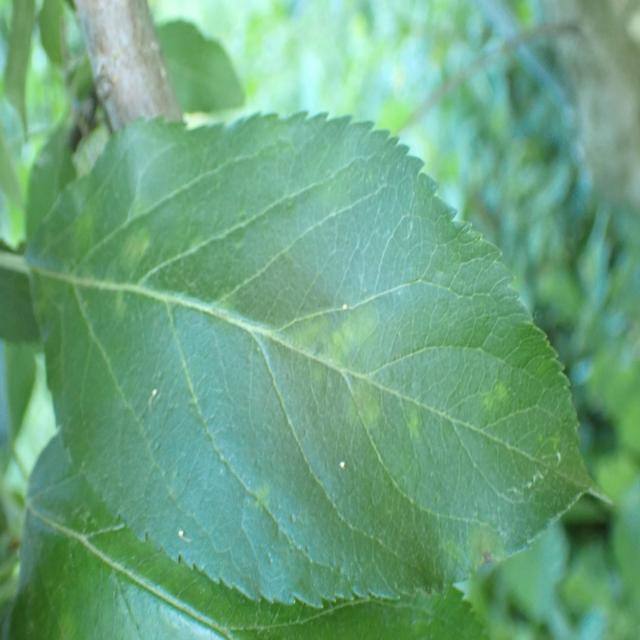scab: (53, 149, 556, 580)
